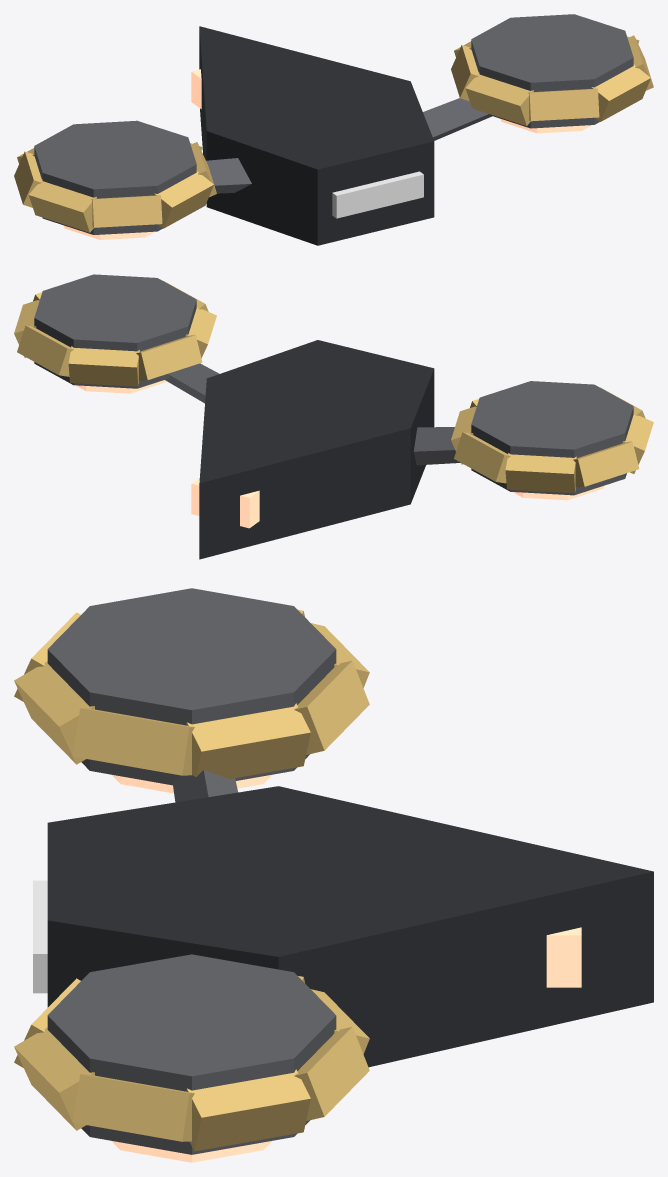
The model's file is Aegis_Seeker.fbx.
3 renders of one model, top to bottom at view 1: azimuth 30°, elevation 25°; view 2: azimuth 150°, elevation 25°; view 3: azimuth 270°, elevation 25°, orthographic. The views are drawn at different scales.
Visible parts, largest first — view 1: SEK_Core, SEK_Rotor-1, SEK_Rotor1, SEK_Rotor-1_Ring, SEK_Rotor1_Ring, SEK_Team, SEK_Arm1, SEK_Arm-1, SEK_Rotor-1_Glow, SEK_Rotor1_Glow, SEK_Eye; view 2: SEK_Core, SEK_Rotor-1, SEK_Rotor1, SEK_Rotor-1_Ring, SEK_Rotor1_Ring, SEK_Arm-1, SEK_Arm1, SEK_Eye, SEK_Rotor1_Glow, SEK_Rotor-1_Glow; view 3: SEK_Core, SEK_Rotor1, SEK_Rotor-1, SEK_Rotor1_Ring, SEK_Rotor-1_Ring, SEK_Eye, SEK_Team, SEK_Arm-1, SEK_Rotor1_Glow.
Part boxes in pixels (x1,y1,x2,y2): SEK_Core: [199, 26, 434, 245]; SEK_Rotor-1: [34, 120, 196, 234]; SEK_Rotor1: [471, 14, 633, 128]; SEK_Rotor-1_Ring: [14, 142, 216, 232]; SEK_Rotor1_Ring: [451, 35, 653, 125]; SEK_Team: [332, 171, 423, 218]; SEK_Arm1: [423, 98, 492, 140]; SEK_Arm-1: [206, 158, 251, 193]; SEK_Rotor-1_Glow: [63, 225, 154, 239]; SEK_Rotor1_Glow: [500, 119, 591, 133]; SEK_Eye: [191, 69, 201, 109]; SEK_Core: [199, 340, 434, 559]; SEK_Rotor-1: [471, 381, 633, 495]; SEK_Rotor1: [34, 274, 196, 388]; SEK_Rotor-1_Ring: [451, 387, 653, 493]; SEK_Rotor1_Ring: [14, 281, 216, 386]; SEK_Arm-1: [413, 427, 460, 465]; SEK_Arm1: [165, 363, 219, 403]; SEK_Eye: [191, 477, 259, 528]; SEK_Rotor1_Glow: [76, 380, 166, 393]; SEK_Rotor-1_Glow: [513, 486, 603, 500]; SEK_Core: [47, 786, 653, 1067]; SEK_Rotor1: [47, 954, 336, 1154]; SEK_Rotor-1: [47, 588, 336, 785]; SEK_Rotor1_Ring: [14, 976, 369, 1151]; SEK_Rotor-1_Ring: [14, 609, 369, 778]; SEK_Eye: [546, 927, 581, 987]; SEK_Team: [33, 880, 47, 993]; SEK_Arm-1: [172, 770, 238, 802]; SEK_Rotor1_Glow: [112, 1141, 271, 1162].
Size of the model in its own units: 0.4232 by 0.065 by 0.2216.
